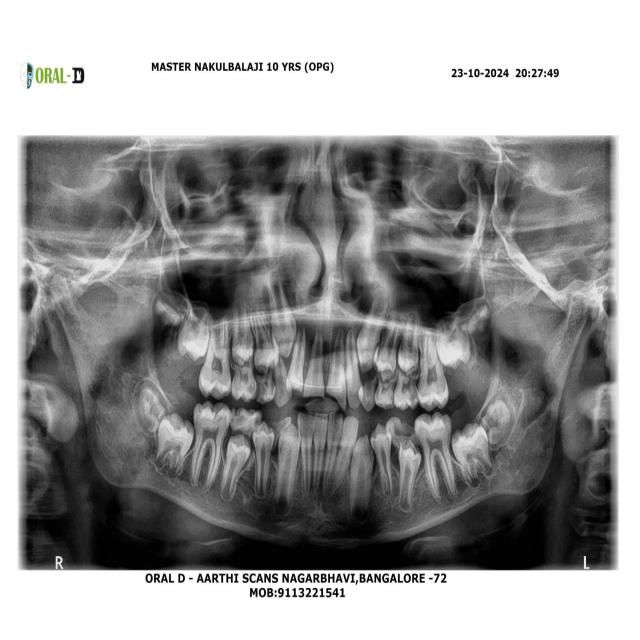Premolars: (369, 426, 398, 495)
